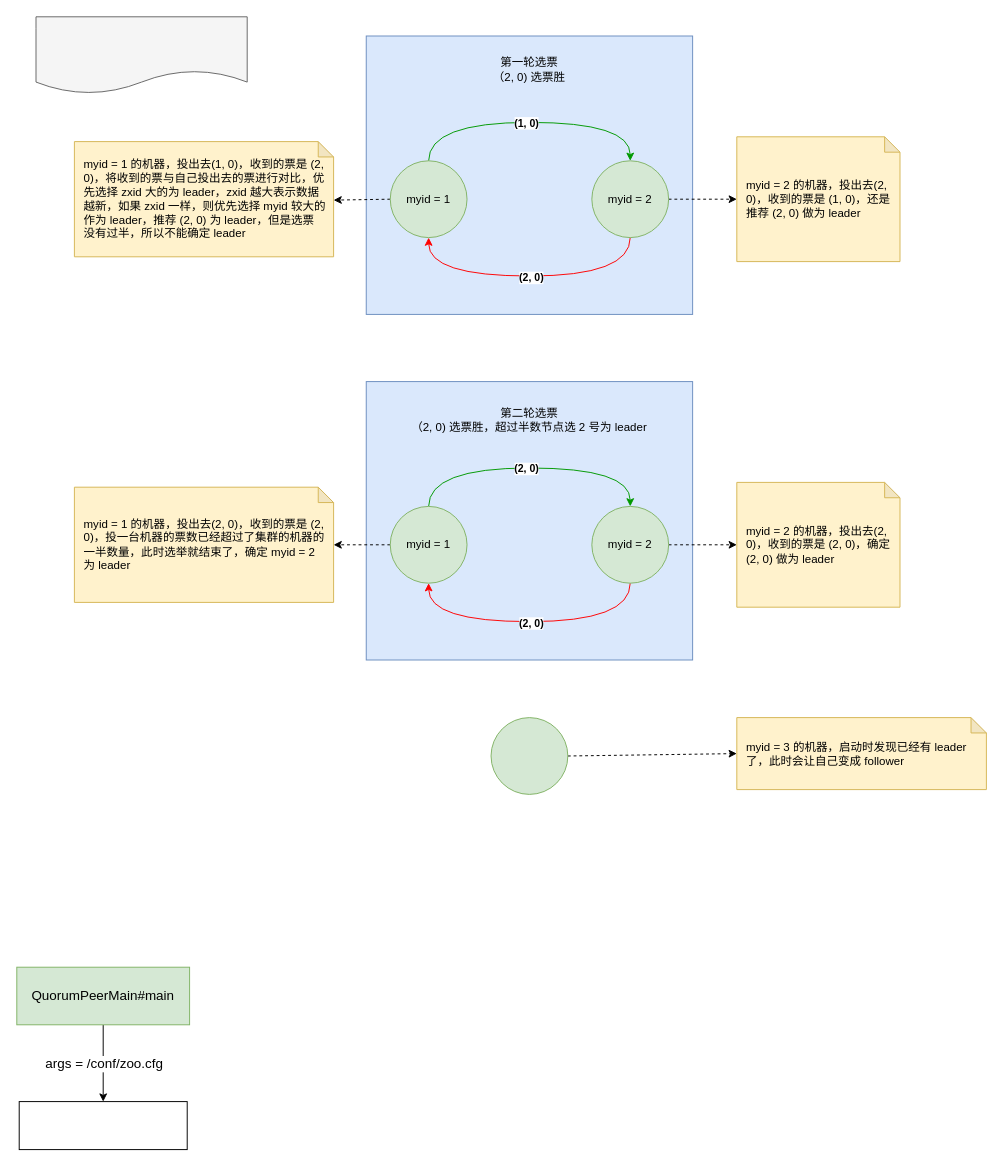
The diagram is 1003 pixels wide and 1166 high, and some of its shapes have lost their labels. The box of each missing label's shape, as (x1, y1, x2, y2) in pixels:
initializeAndRun(args);: (18, 1101, 187, 1150)
myid = 3: (490, 717, 568, 794)
选票格式：vote = (myid, zxid): (35, 16, 247, 94)
